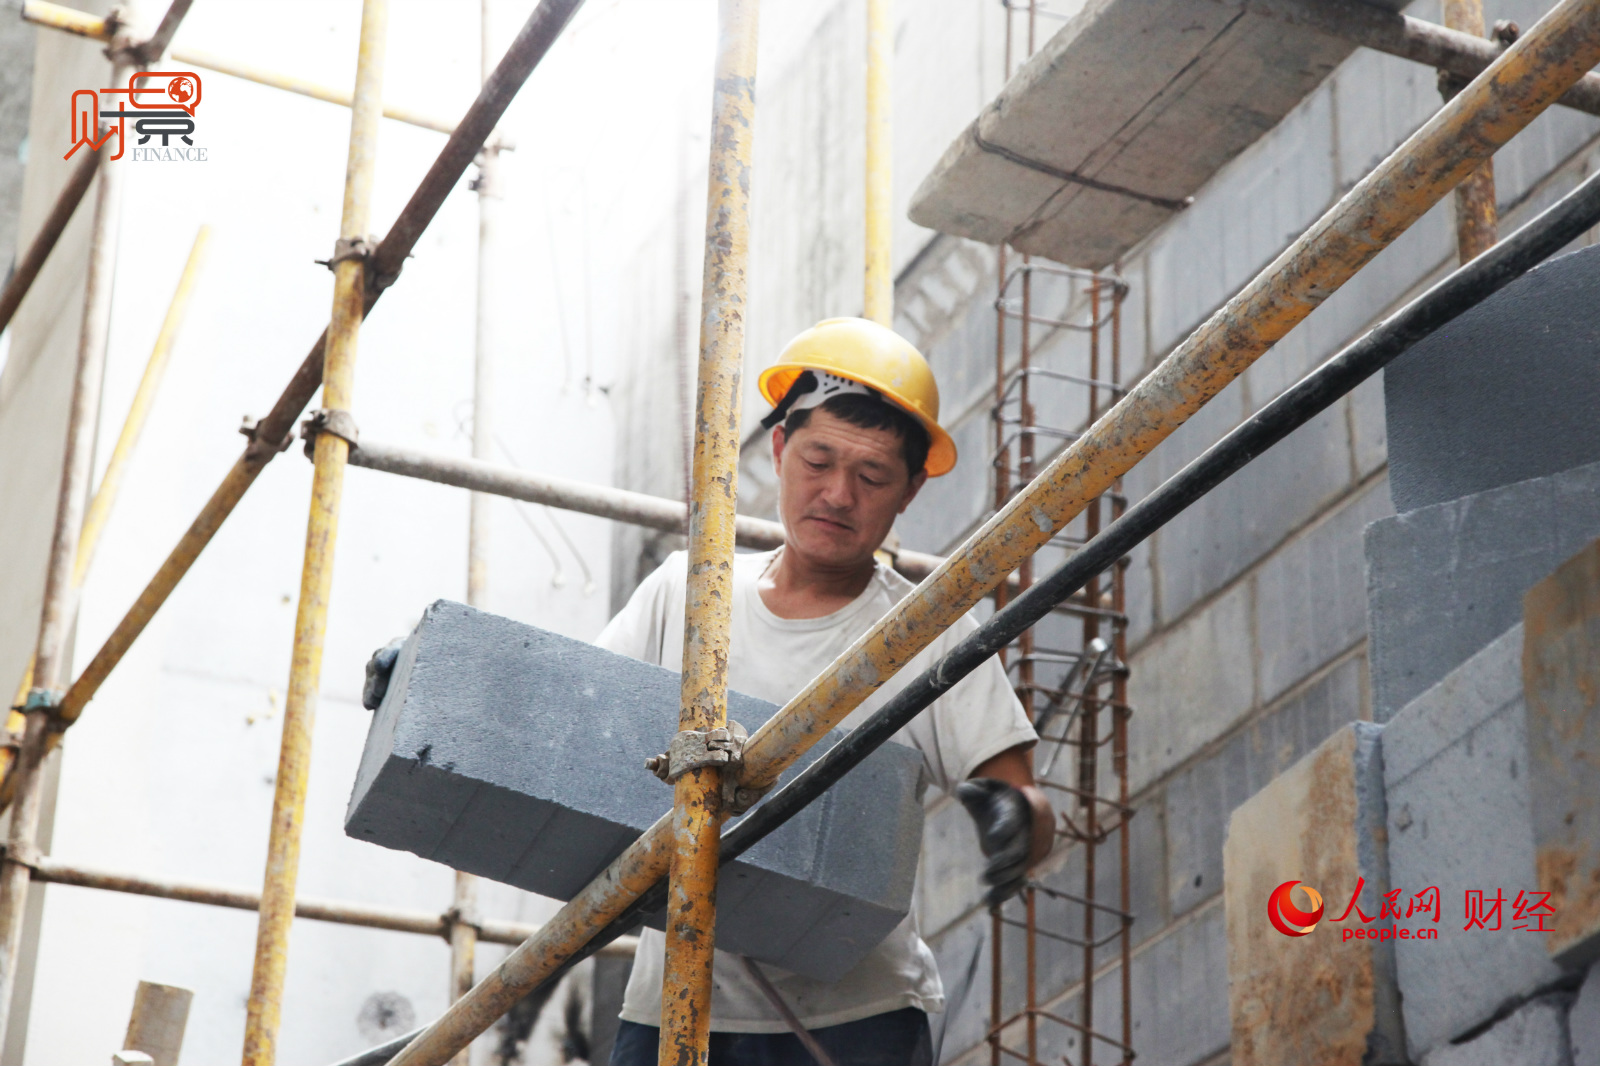safetyhat: (606, 290, 1043, 799)
